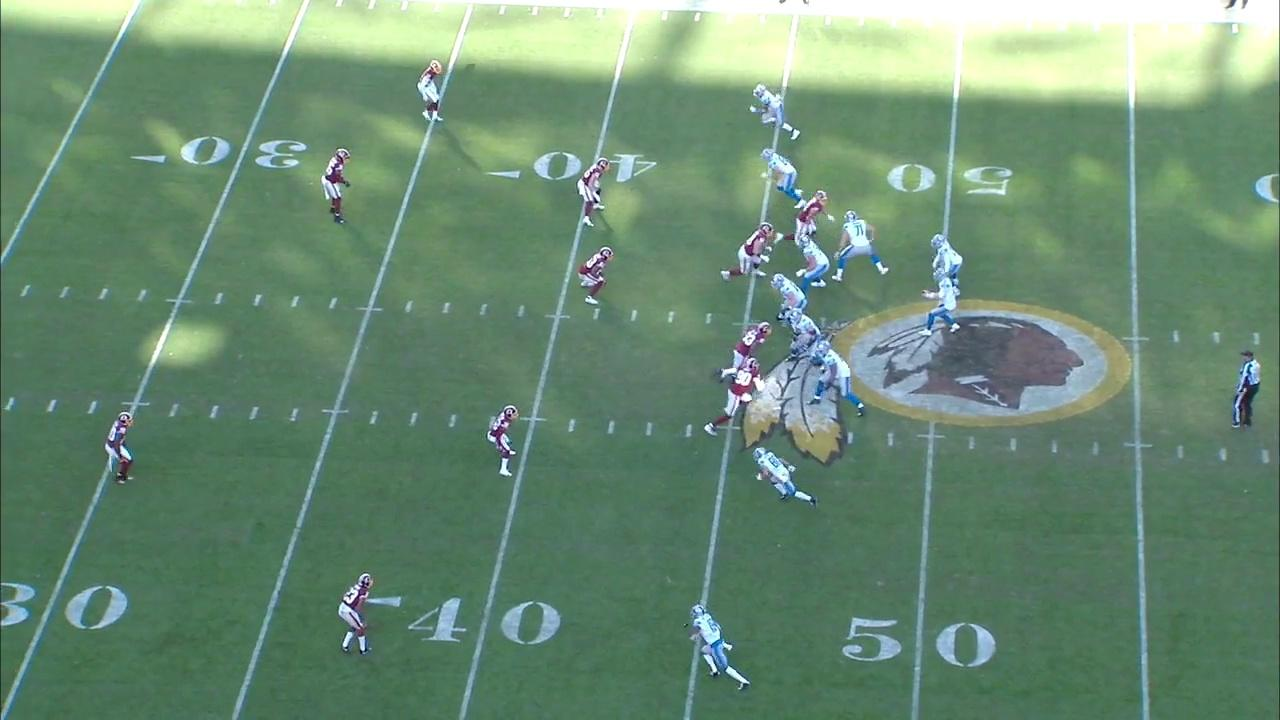defense: (700, 353, 767, 443), (333, 569, 381, 661), (721, 318, 773, 381), (723, 219, 774, 282), (485, 401, 525, 476), (775, 190, 828, 244), (105, 407, 140, 488), (578, 156, 614, 228), (319, 150, 353, 225), (576, 244, 614, 310), (415, 57, 447, 132)
oline: (831, 207, 888, 282), (812, 340, 862, 415), (785, 307, 821, 372), (794, 229, 828, 293), (771, 272, 807, 320)
qb: (924, 269, 956, 335)
ref: (1227, 343, 1265, 434)
skill: (685, 602, 750, 691), (752, 443, 819, 507), (758, 144, 811, 209), (749, 80, 802, 144), (930, 235, 963, 296)
